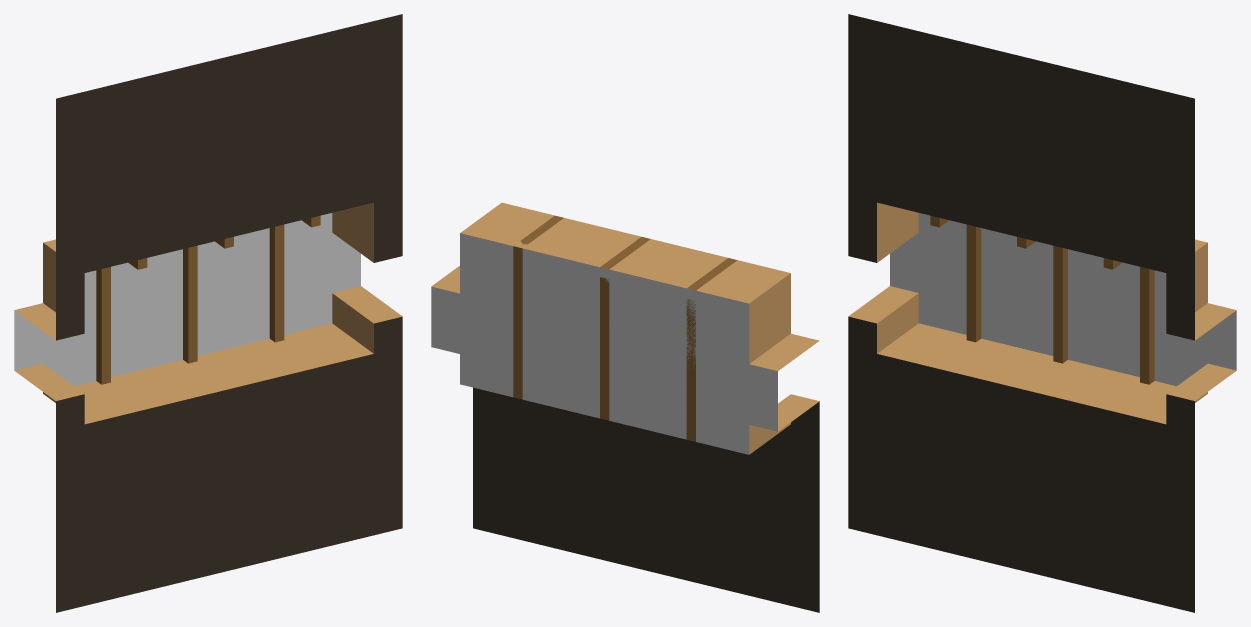
File: Room-002.fbx
3 views of the same model, side by side, from view 1: azimuth 30°, elevation 25°; view 2: azimuth 150°, elevation 25°; view 3: azimuth 330°, elevation 25° (orthographic).
Visible parts, largest first — view 1: Room.001; view 2: Room.001; view 3: Room.001.
Boxes of the visible parts, x1,y1,x2,y2 form: Room.001: [14, 14, 402, 612]; Room.001: [431, 202, 819, 612]; Room.001: [848, 14, 1236, 612].
Bounding box in the file's own units: 2400 × 3400 × 500.
